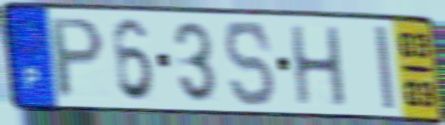3: (172, 19, 217, 105)
6: (111, 15, 157, 105)
H: (287, 24, 350, 110)
I: (371, 23, 398, 112)
P: (49, 15, 107, 103)
S: (222, 18, 279, 110)
